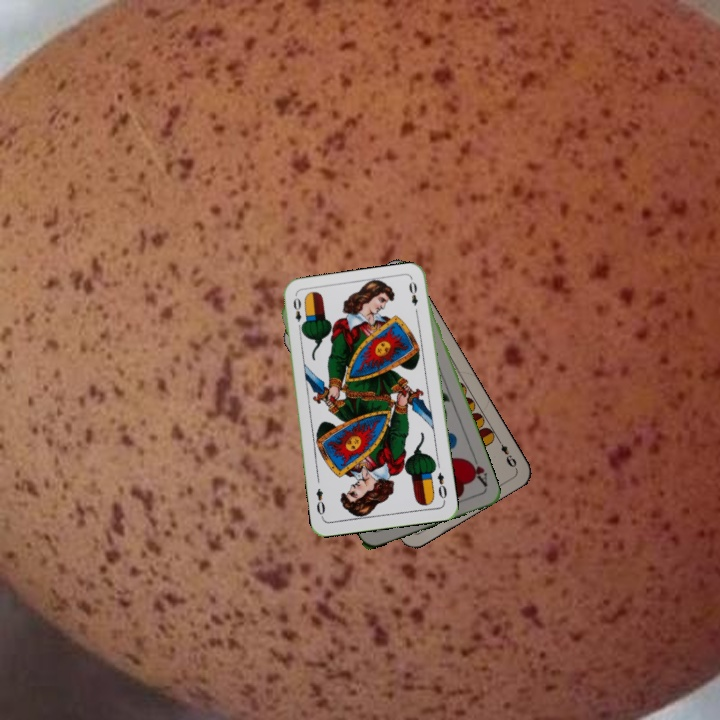E9: (494, 434, 519, 471)
EO: (289, 294, 307, 333), (433, 468, 450, 504)
HA: (463, 451, 490, 490)
